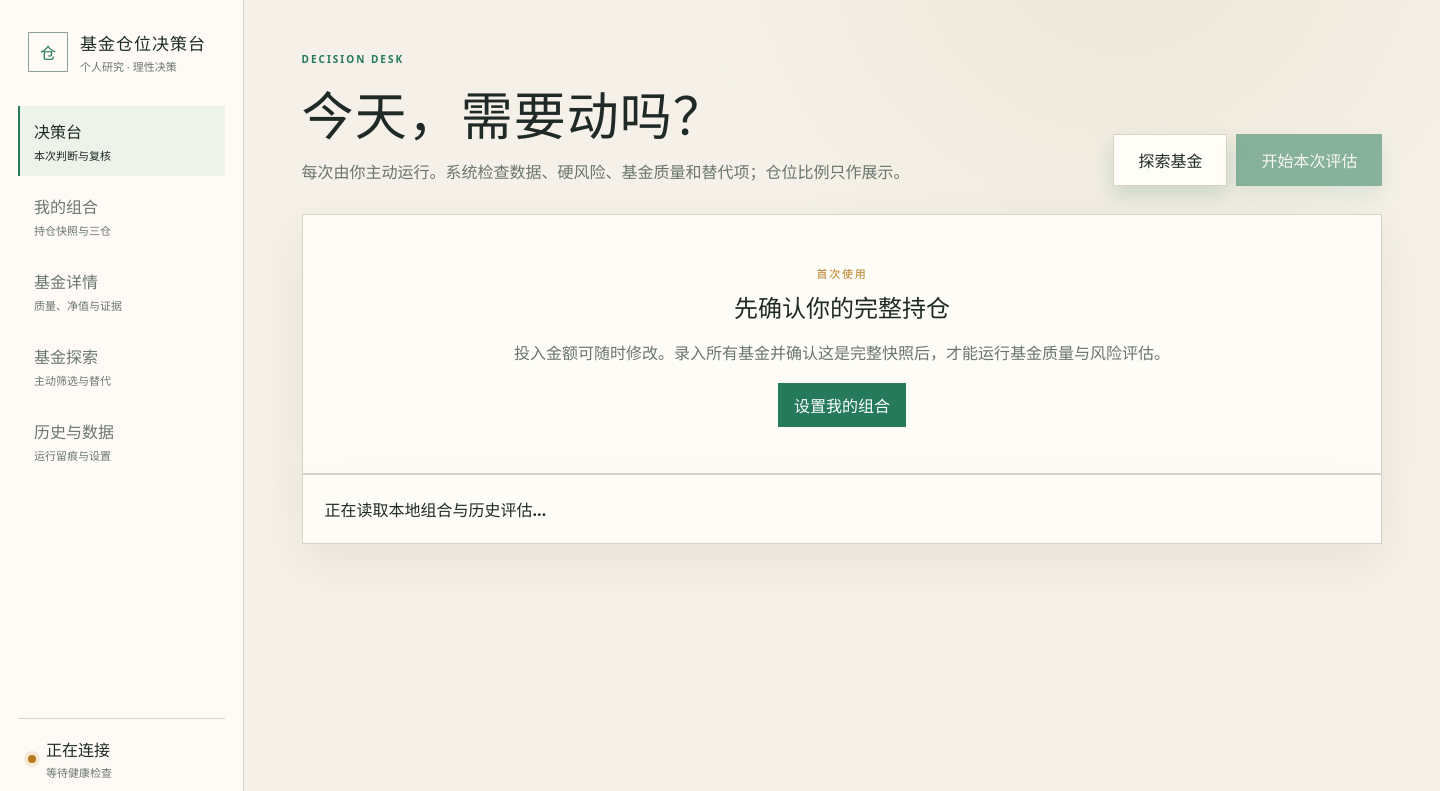
Test case: 基金仓位决策台 › runs fund discovery only after the user clicks and shows screened reasons
Click the link "基金探索 主动筛选与替代": x=72, y=367 [34,346,111,388]
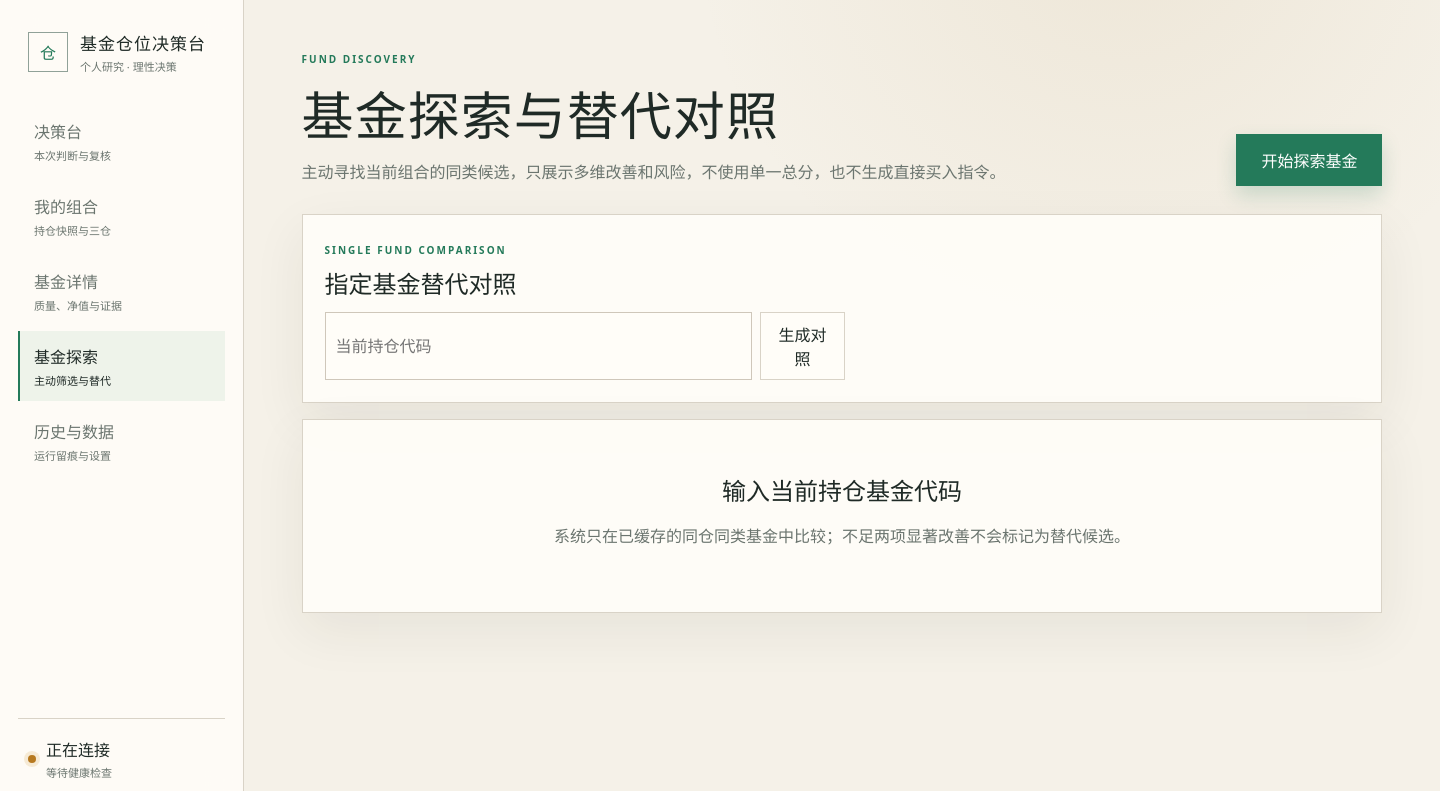
Click the button "开始探索基金": x=1309, y=160 [1236,134,1382,186]
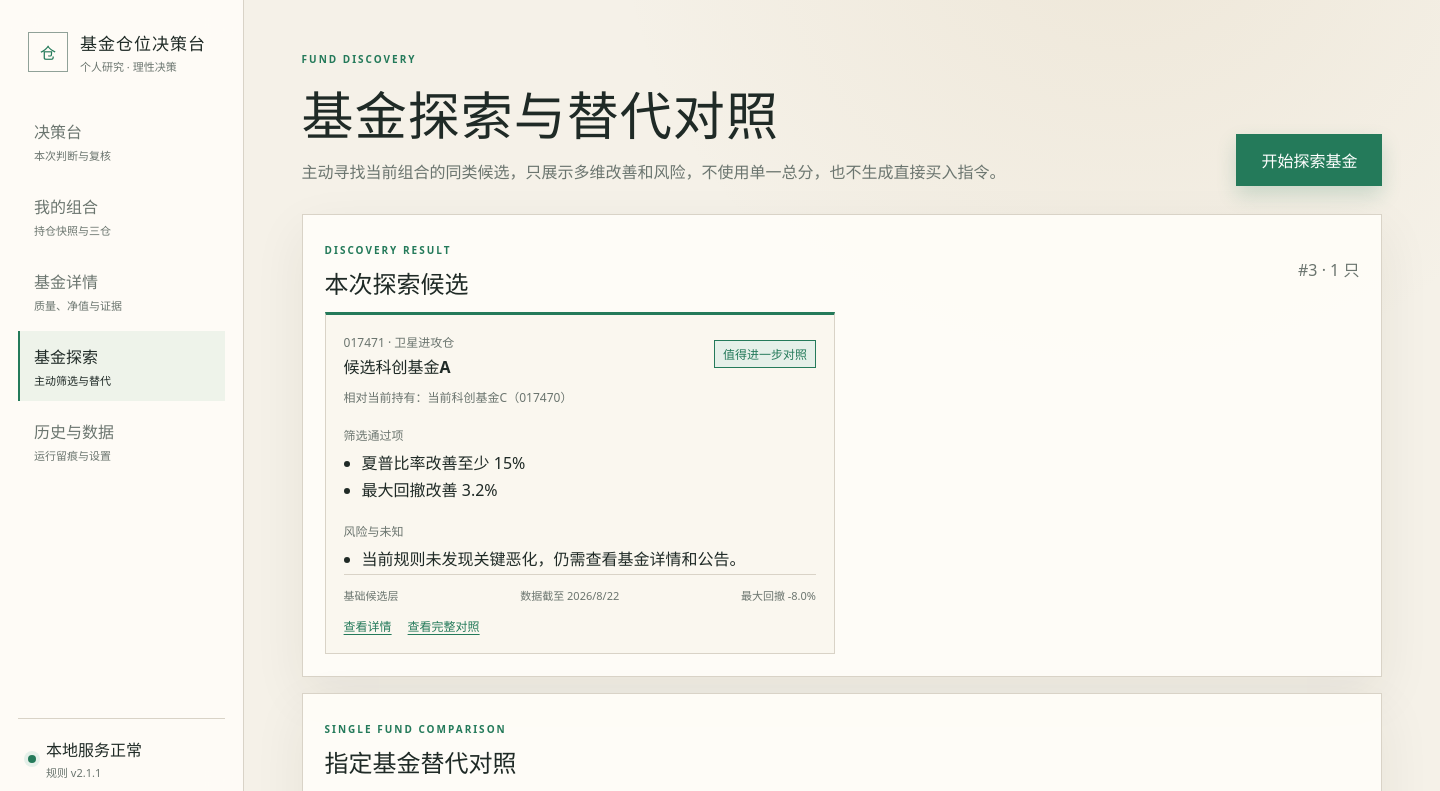
Result: the text "候选科创基金A" is shown at [344,354,454,378]
Result: the list item "夏普比率改善至少 15%" is shown at [362,452,525,474]
Result: the text "值得进一步对照" is shown at [714,340,816,368]
